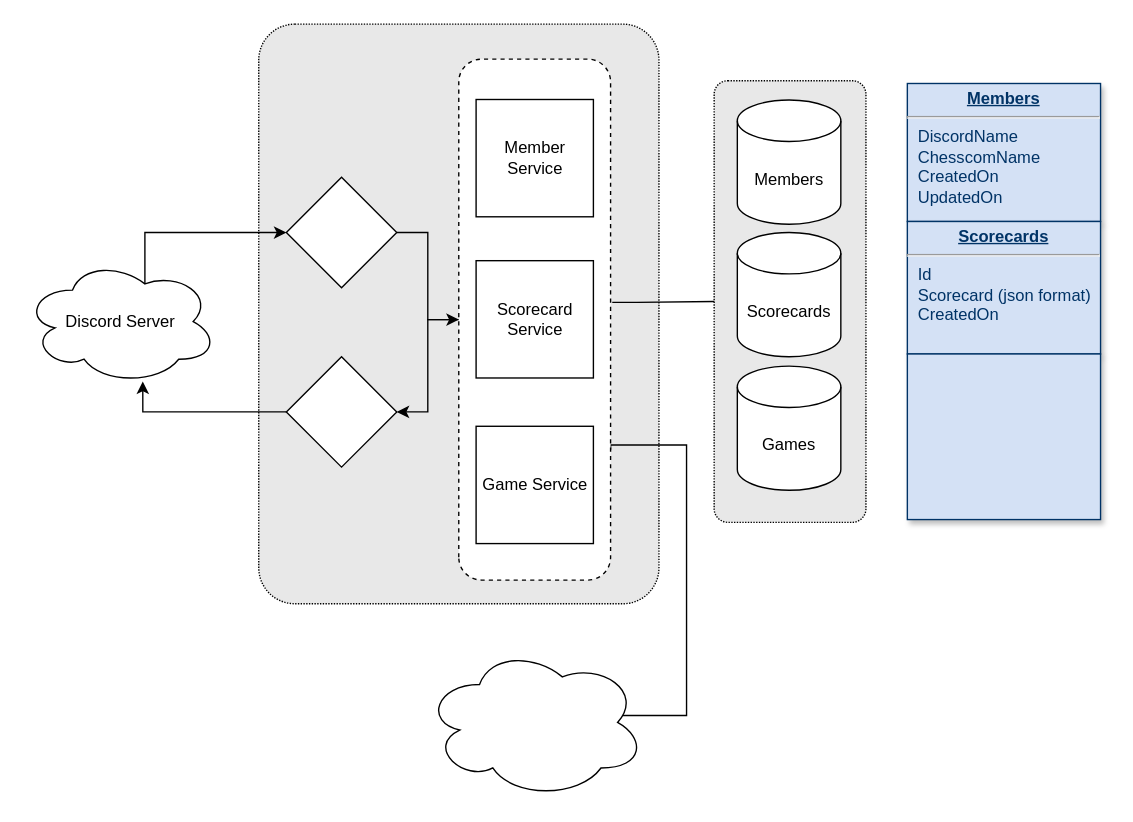
This 1133x822 diagram has some shape labels left out. The centre of each missing label's shape, as x and y in pixels:
"Chess.com API" belongs at [534,721].
"Controller" belongs at [341,232].
"Discord Client" belongs at [341,411].
"Games GameId Players (alphabetical) Winner (P1, P2, Draw) Pgn GameType CreatedOn" belongs at [1004,438].
